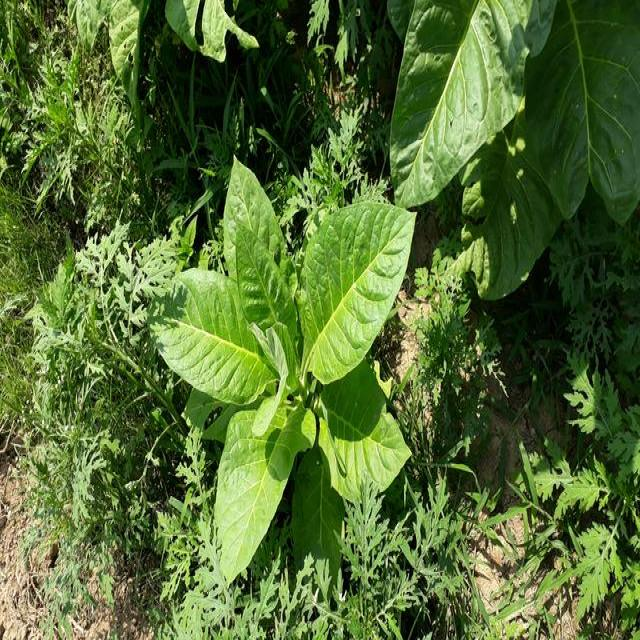crop: (162, 155, 414, 582)
